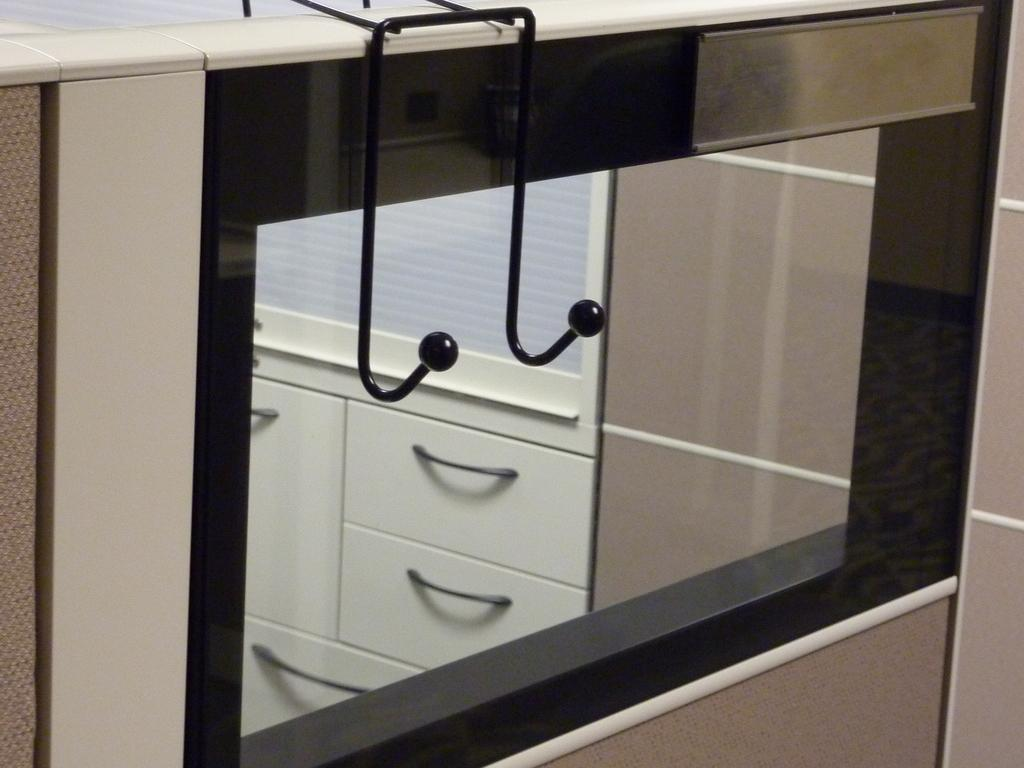cabinet_door: (354, 406, 572, 566), (366, 544, 536, 647), (242, 616, 390, 712)
handle: (254, 638, 360, 700), (407, 564, 505, 621), (420, 446, 514, 492)
